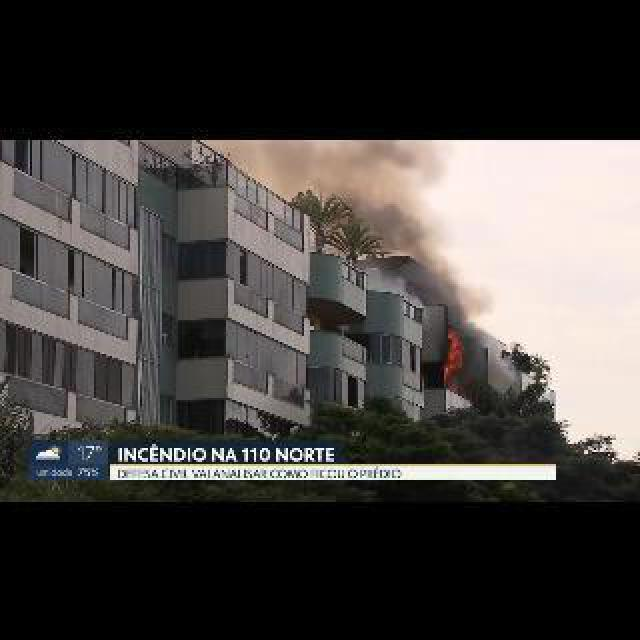Fire: (442, 328, 464, 384)
Smoke: (306, 138, 454, 248), (412, 250, 502, 326)
